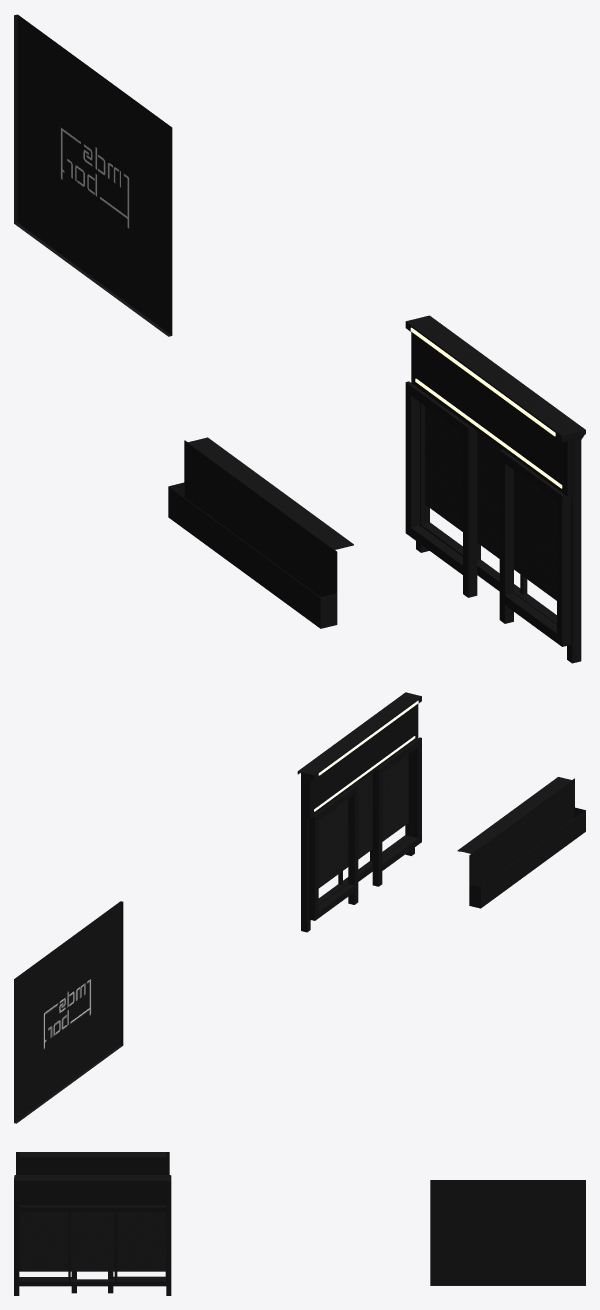
Rendered from bar_animated.glb.
3 renders of one model, top to bottom at view 1: azimuth 30°, elevation 25°; view 2: azimuth 150°, elevation 25°; view 3: azimuth 270°, elevation 25°, orthographic. The views are drawn at different scales.
Parts seen in each view (by area): view 1: PLANSZA.001, SZUFLADA.003, pulka_duza.001, PULKA.001, BAR_MOD.002, NOGI_LEWE.001, NOGI_PRAWE.001; view 2: PLANSZA.001, SZUFLADA.003, pulka_duza.001, PULKA.001, BAR_MOD.002, NOGI_LEWE.001, NOGI_PRAWE.001; view 3: PLANSZA.001, pulka_duza.001, BAR_MOD.002, PULKA.001, SZUFLADA.003, poprzeczkapionowa.001, poprzeczka.001, NOGI_LEWE.001, NOGI_PRAWE.001.
Boxes of the visible parts, <box> form: PLANSZA.001: <box>14,14,172,336</box>; SZUFLADA.003: <box>168,437,353,628</box>; pulka_duza.001: <box>425,406,556,600</box>; PULKA.001: <box>406,319,571,497</box>; BAR_MOD.002: <box>405,315,585,663</box>; NOGI_LEWE.001: <box>405,381,477,597</box>; NOGI_PRAWE.001: <box>499,449,571,646</box>; PLANSZA.001: <box>14,901,123,1123</box>; SZUFLADA.003: <box>457,777,585,908</box>; pulka_duza.001: <box>318,754,408,888</box>; PULKA.001: <box>307,695,421,817</box>; BAR_MOD.002: <box>297,692,421,932</box>; NOGI_LEWE.001: <box>308,784,358,920</box>; NOGI_PRAWE.001: <box>372,737,421,886</box>; PLANSZA.001: <box>430,1180,585,1285</box>; pulka_duza.001: <box>19,1212,166,1271</box>; BAR_MOD.002: <box>14,1175,171,1295</box>; PULKA.001: <box>15,1175,170,1205</box>; SZUFLADA.003: <box>16,1152,169,1174</box>; poprzeczkapionowa.001: <box>19,1207,166,1211</box>; poprzeczka.001: <box>19,1205,166,1207</box>; NOGI_LEWE.001: <box>108,1271,166,1293</box>; NOGI_PRAWE.001: <box>19,1271,76,1293</box>.
Size of the model in its own units: 1.46 by 1.22 by 5.45.
Materials: 8 (7 with a texture image).
